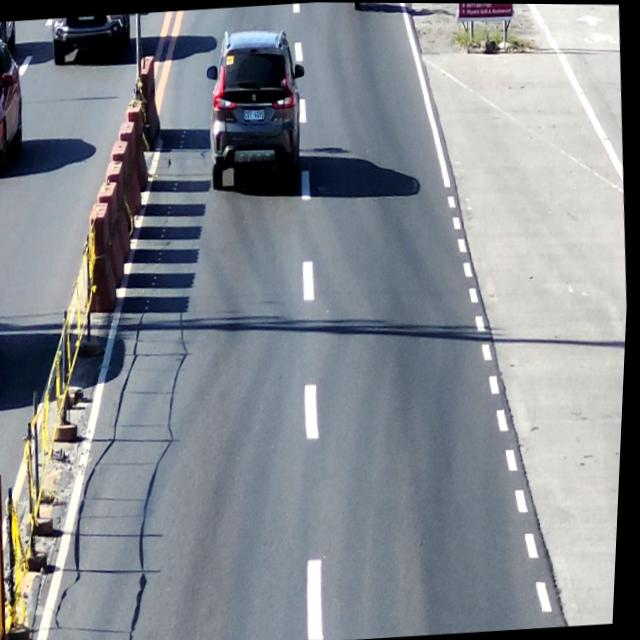Car: (201, 23, 313, 197)
License-Plate: (242, 104, 266, 123)
